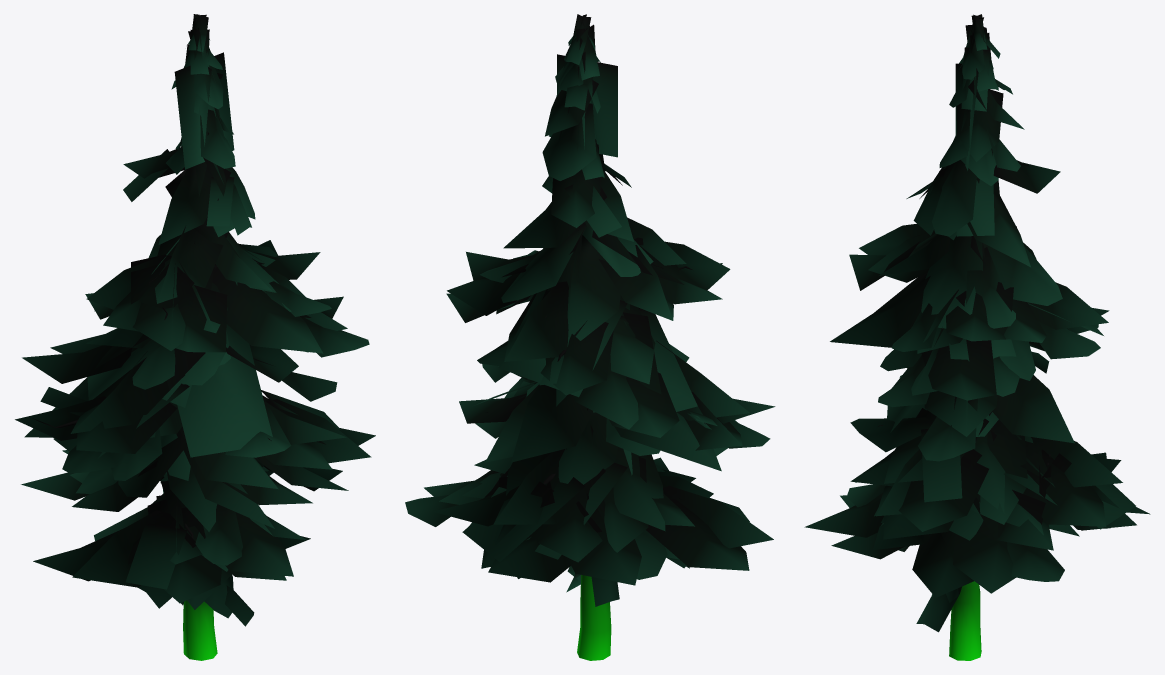
File: SM_Pine02.fbx
3 renders of one model, left to right at view 1: azimuth 30°, elevation 25°; view 2: azimuth 150°, elevation 25°; view 3: azimuth 270°, elevation 25°, orthographic.
Visible parts, largest first — view 1: SM_Pine02_LOD0; view 2: SM_Pine02_LOD0; view 3: SM_Pine02_LOD0.
Boxes of the visible parts, x1=… form: SM_Pine02_LOD0: x1=15, y1=14, x2=375, y2=660; SM_Pine02_LOD0: x1=405, y1=14, x2=775, y2=660; SM_Pine02_LOD0: x1=804, y1=14, x2=1150, y2=660.
Size of the model in its own units: 973 by 1829 by 897.
